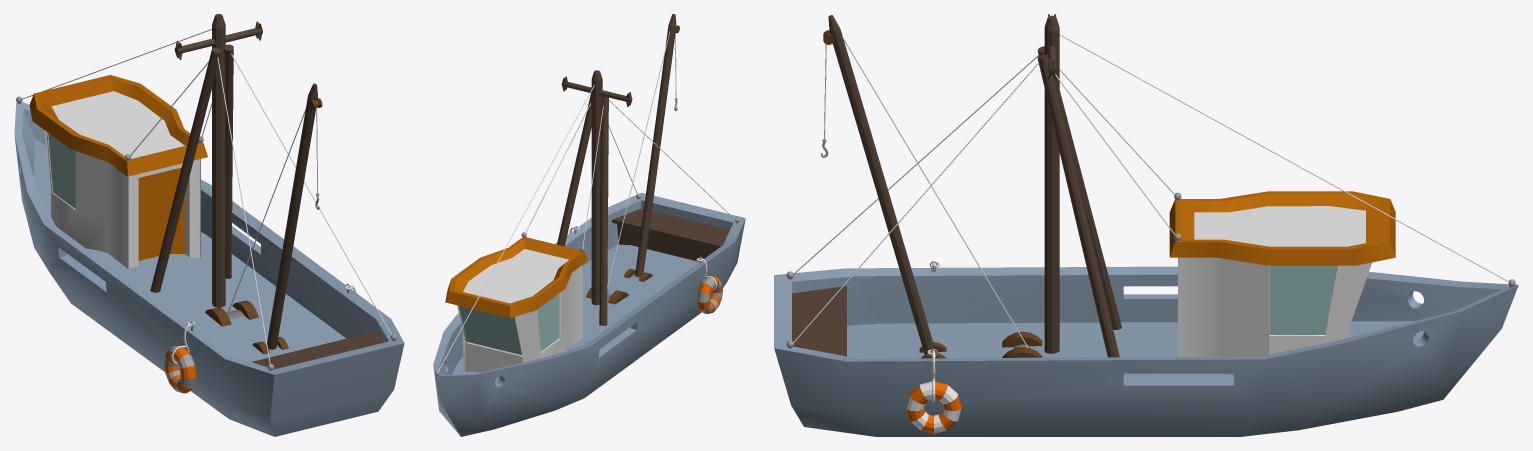
File: boat.fbx
The picture shows the model from 3 angles, left to right: view 1: azimuth 30°, elevation 25°; view 2: azimuth 150°, elevation 25°; view 3: azimuth 270°, elevation 25°; orthographic projection. The views are drawn at different scales.
Visible parts, largest first — view 1: boat; view 2: boat; view 3: boat.
Boxes of the visible parts, bbox=[...] form: boat: bbox=[14, 14, 404, 436]; boat: bbox=[433, 14, 745, 436]; boat: bbox=[774, 14, 1518, 436].
Size of the model in its own units: 10.71 by 17.34 by 30.47.
